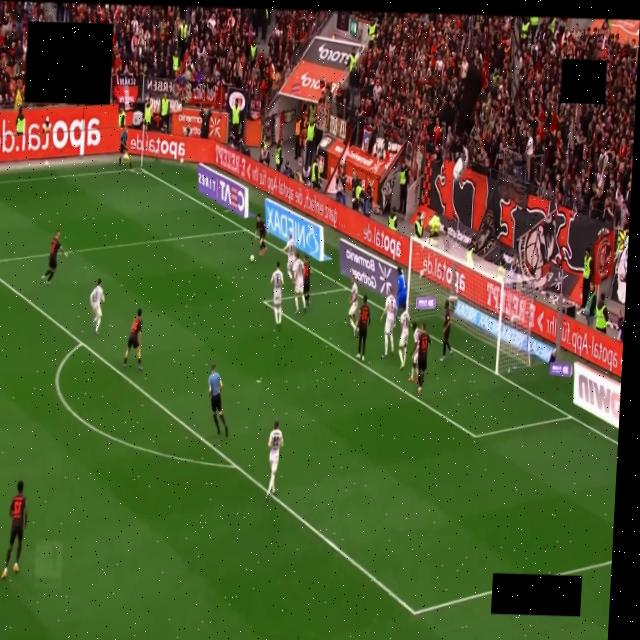ball: (250, 256, 253, 263)
player: (1, 481, 26, 578), (266, 420, 283, 500), (42, 231, 66, 284), (380, 286, 397, 358), (123, 309, 141, 371), (417, 323, 430, 393), (356, 296, 369, 361), (89, 278, 104, 333), (270, 262, 283, 325), (293, 252, 306, 312), (440, 301, 452, 361), (398, 304, 409, 369), (408, 323, 420, 381), (348, 278, 358, 336), (283, 234, 295, 280), (395, 268, 406, 309), (255, 214, 266, 255), (302, 257, 310, 310)
referee: (207, 365, 227, 436)
